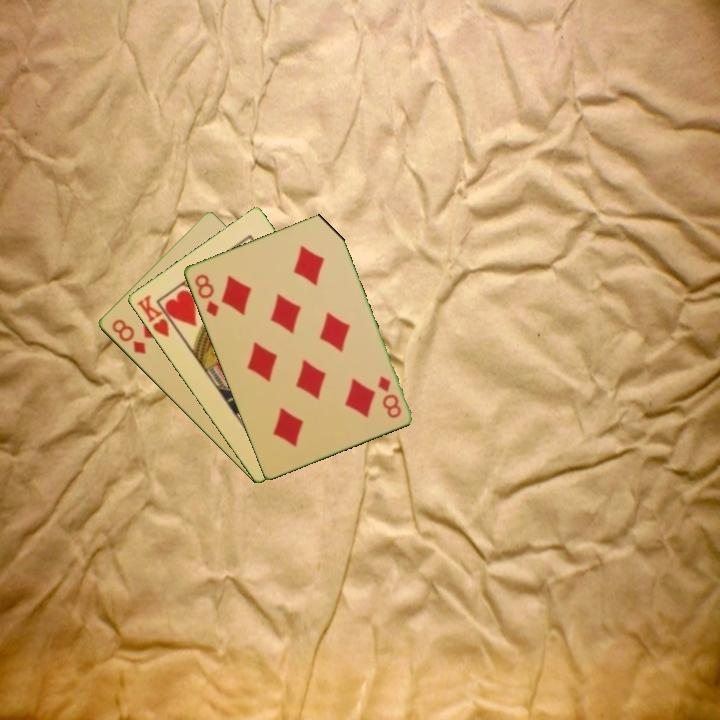8d: (108, 316, 149, 357), (191, 270, 222, 319), (374, 372, 404, 421)
Kh: (133, 291, 181, 340)
